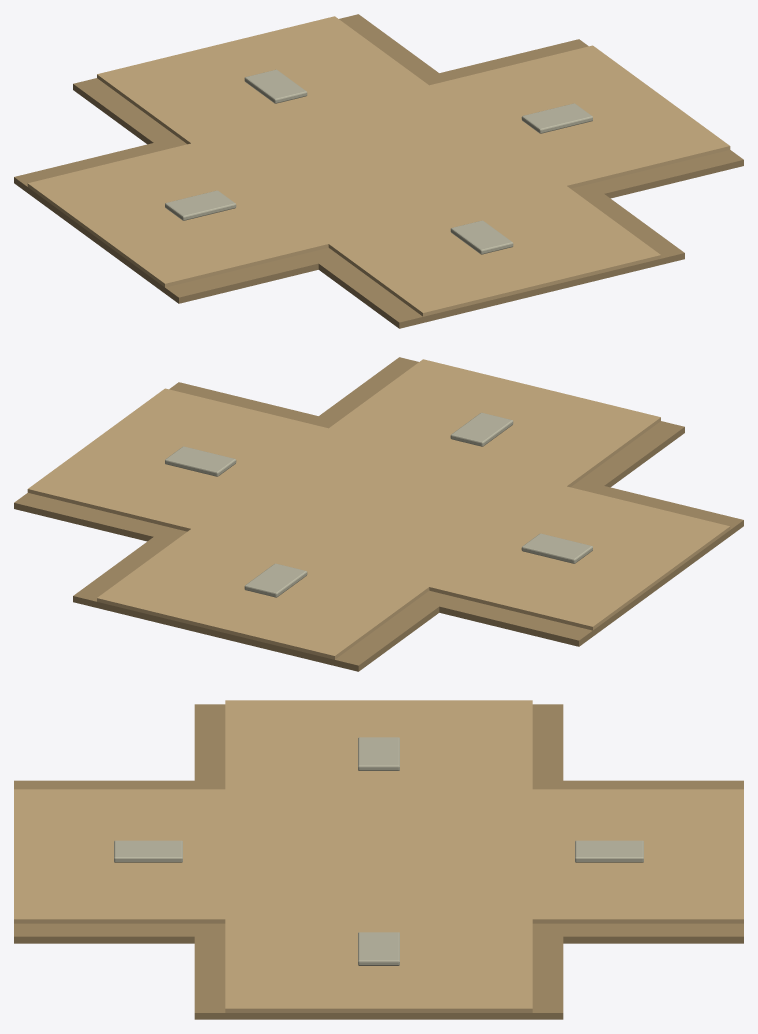
Rendered from path_cross.glb.
3 views of the same model, one above another, from view 1: azimuth 30°, elevation 25°; view 2: azimuth 150°, elevation 25°; view 3: azimuth 270°, elevation 25° (orthographic). The views are drawn at different scales.
Visible parts, largest first — view 1: path_cross · path, path_cross · path_edge, path_cross · stone_light; view 2: path_cross · path, path_cross · path_edge, path_cross · stone_light; view 3: path_cross · path, path_cross · path_edge, path_cross · stone_light.
Part boxes in pixels (x1,y1,x2,y2): path_cross · path: [27, 16, 730, 316]; path_cross · path_edge: [14, 14, 743, 328]; path_cross · stone_light: [165, 69, 592, 254]; path_cross · path: [27, 359, 730, 659]; path_cross · path_edge: [14, 357, 743, 671]; path_cross · stone_light: [165, 412, 592, 597]; path_cross · path: [14, 700, 743, 1012]; path_cross · path_edge: [14, 704, 743, 1019]; path_cross · stone_light: [114, 737, 643, 965].
Bounding box in the file's own units: 0.95 × 0.024 × 0.95.
